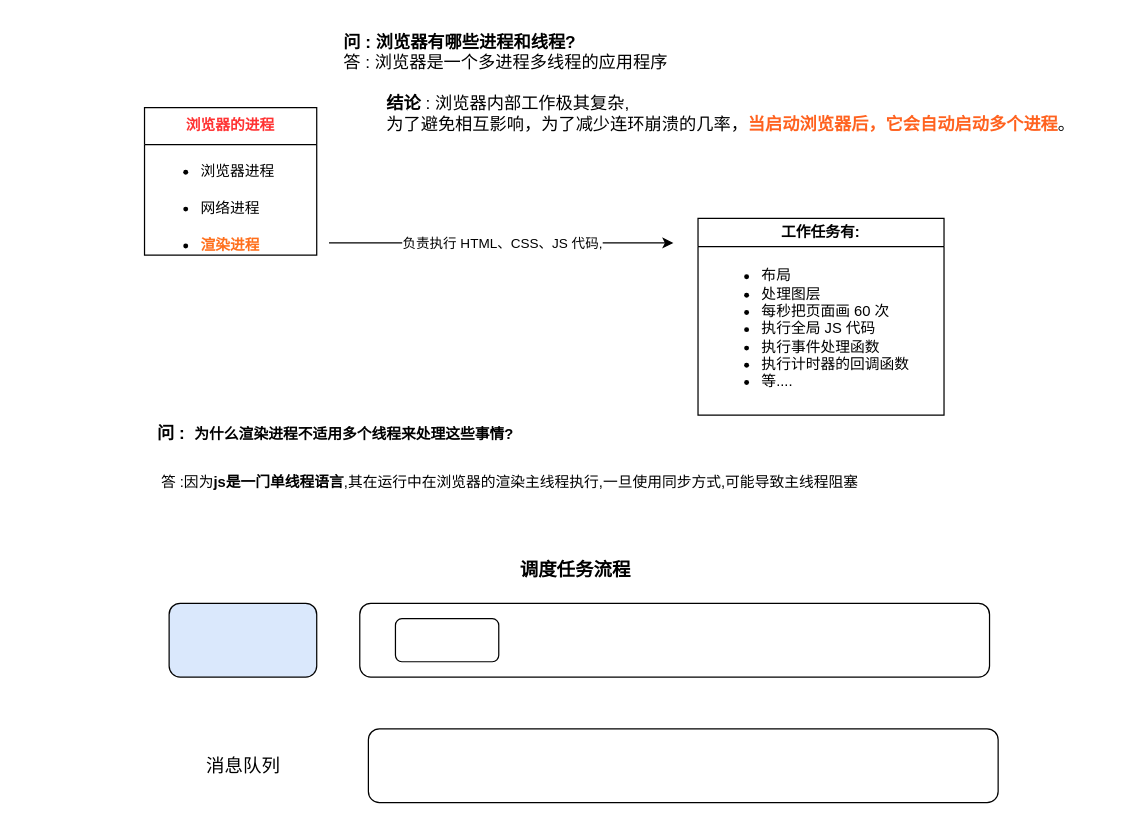
Some shapes in this 1124 by 824 pixel diagram are drawn without their labels. Each missing label, with the centre of its shape:
"渲染主线程" belongs at pixel 242 639.
"绘制" belongs at pixel 446 639.
